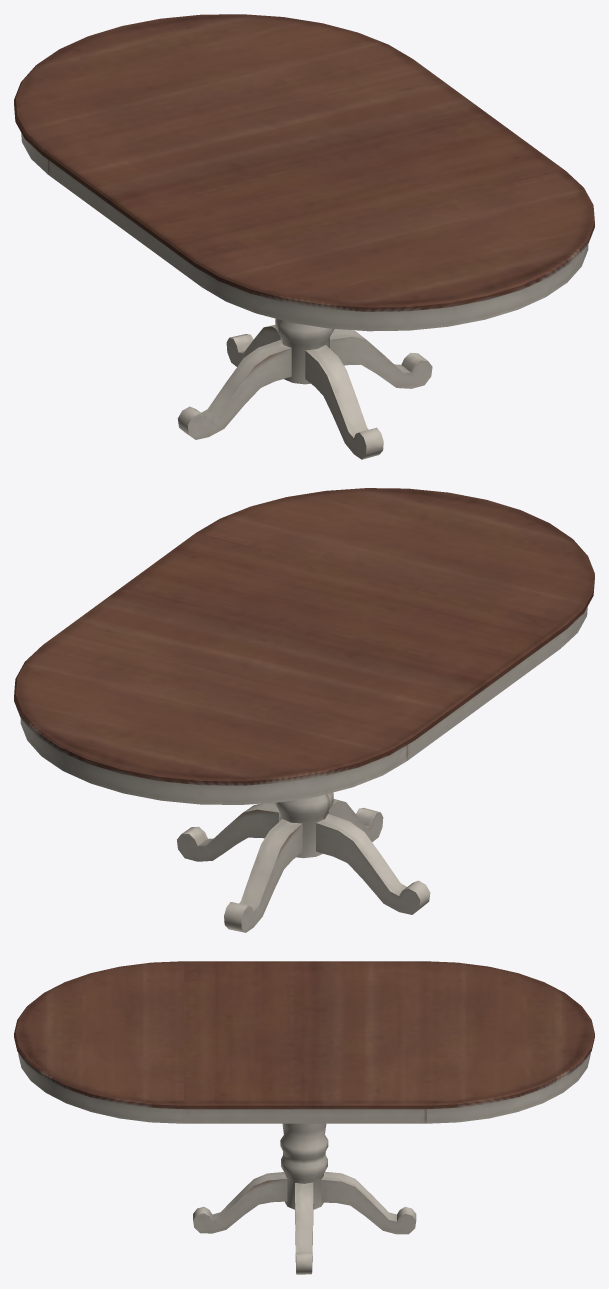
File: KitchenTable_Large.FBX
3 views of the same model, one above another, from view 1: azimuth 30°, elevation 25°; view 2: azimuth 150°, elevation 25°; view 3: azimuth 270°, elevation 25° (orthographic). The views are drawn at different scales.
Parts seen in each view (by area): view 1: KitchenTable_Large; view 2: KitchenTable_Large; view 3: KitchenTable_Large.
Boxes of the visible parts, box(x1,y1,x2,y2) form: KitchenTable_Large: box(14, 14, 594, 459); KitchenTable_Large: box(14, 488, 594, 932); KitchenTable_Large: box(14, 961, 594, 1274).
Size of the model in its own units: 113 by 72.62 by 193.
